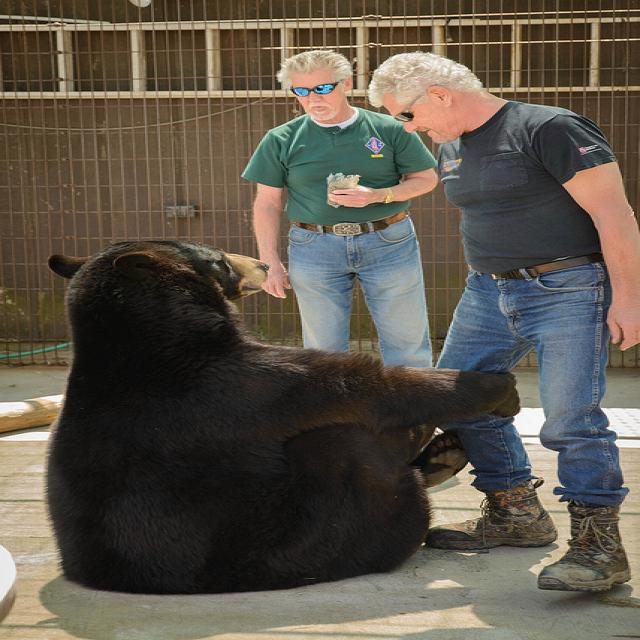Bear: (39, 232, 503, 584)
